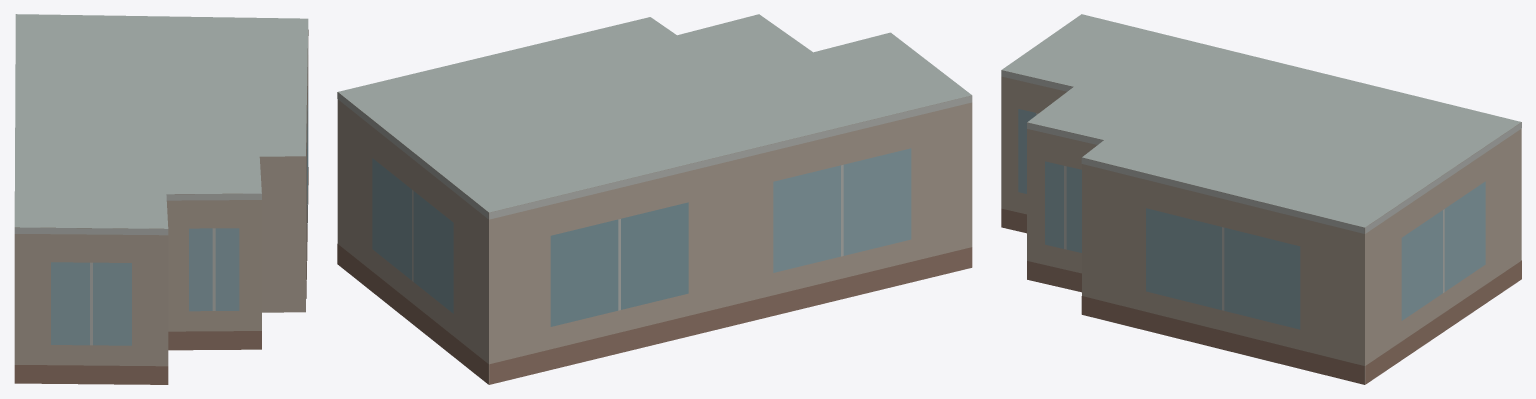
The model's file is survey-upis-32828580.glb.
The picture shows the model from 3 angles, left to right: view 1: azimuth 30°, elevation 25°; view 2: azimuth 150°, elevation 25°; view 3: azimuth 270°, elevation 25°; orthographic projection. The views are drawn at different scales.
Visible parts, largest first — view 1: survey-upis-32828580.tmp; view 2: survey-upis-32828580.tmp; view 3: survey-upis-32828580.tmp.
Boxes of the visible parts, x1,y1,x2,y2 form: survey-upis-32828580.tmp: (14,14,308,384); survey-upis-32828580.tmp: (337,14,972,384); survey-upis-32828580.tmp: (1001,14,1521,384).
Bounding box in the file's own units: 8.9 × 3.05 × 9.16.
